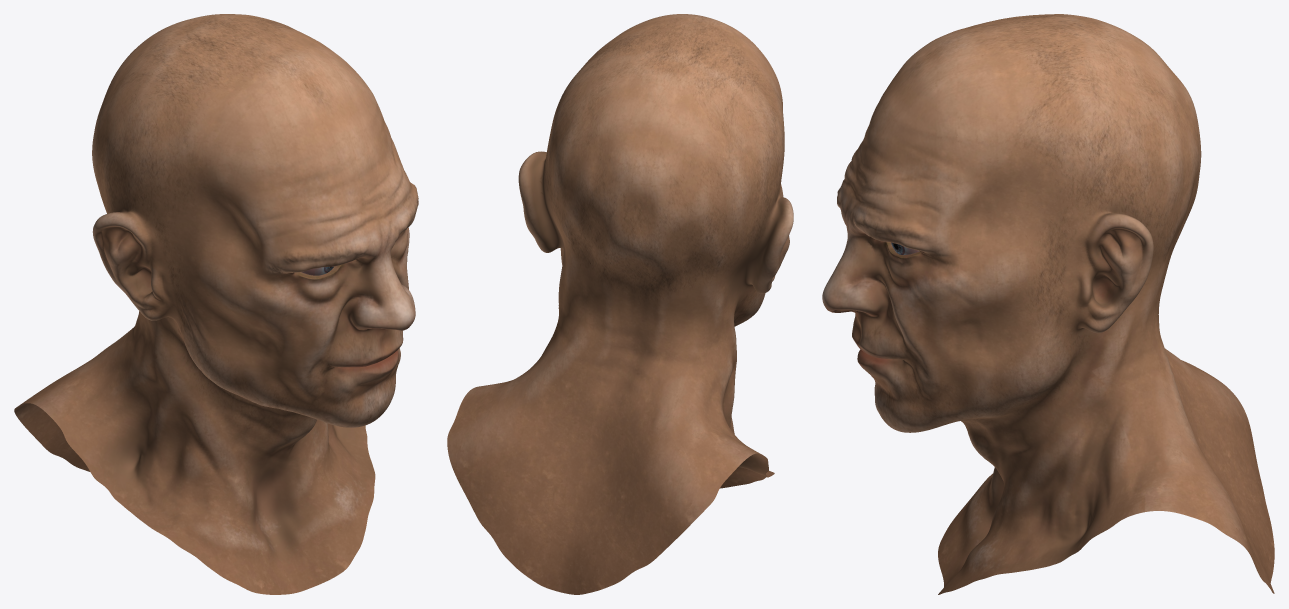
The model's file is head_sculpt.gltf.
3 views of the same model, side by side, from view 1: azimuth 30°, elevation 25°; view 2: azimuth 150°, elevation 25°; view 3: azimuth 270°, elevation 25° (orthographic). The views are drawn at different scales.
Visible parts, largest first — view 1: Head; view 2: Head; view 3: Head.
Boxes of the visible parts, x1=… form: Head: x1=14, y1=14, x2=418, y2=594; Head: x1=447, y1=14, x2=793, y2=594; Head: x1=822, y1=14, x2=1274, y2=594.
Size of the model in its own units: 25.81 by 42.84 by 31.74.
Materials: 1 (1 with a texture image).
